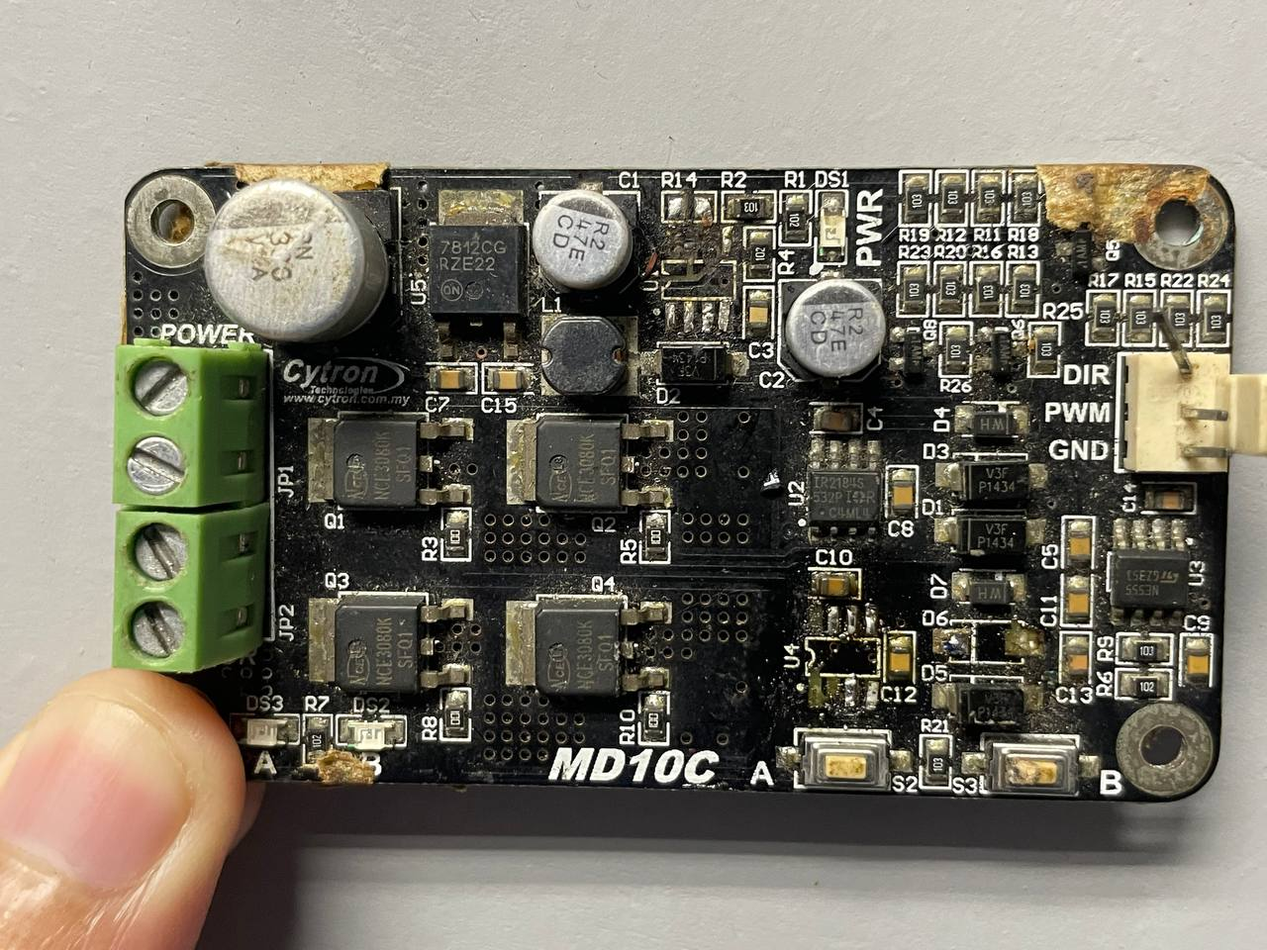bent_pin: (1127, 302, 1237, 391)
missing_comp: (941, 618, 1032, 666), (803, 633, 883, 681), (659, 257, 738, 304), (660, 187, 719, 227)
